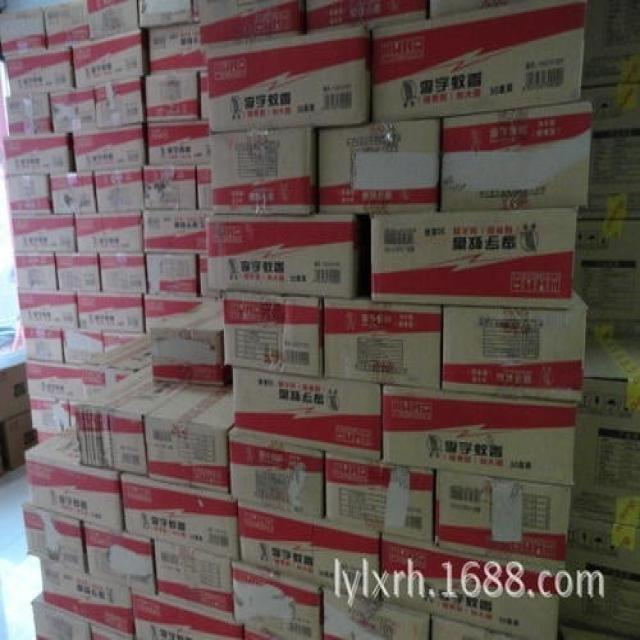box: (371, 2, 586, 121), (372, 207, 579, 309), (381, 532, 563, 638), (383, 387, 577, 483), (567, 333, 640, 579), (205, 27, 370, 131), (442, 102, 591, 212), (442, 292, 586, 399), (238, 500, 381, 602), (206, 213, 372, 297), (232, 369, 384, 459), (73, 364, 189, 474), (435, 471, 573, 560), (321, 297, 443, 393), (316, 118, 440, 212), (27, 423, 125, 532), (325, 447, 436, 543), (123, 471, 242, 558), (145, 382, 233, 493), (210, 126, 317, 213), (576, 82, 640, 222), (225, 290, 321, 377), (232, 430, 326, 515), (573, 218, 639, 336), (232, 556, 323, 640), (41, 556, 134, 637), (152, 538, 234, 620), (150, 299, 227, 382), (197, 0, 307, 56), (561, 561, 640, 637), (324, 584, 431, 640), (131, 585, 243, 638), (83, 521, 160, 594), (580, 0, 639, 89), (73, 29, 151, 89), (84, 331, 152, 399), (23, 503, 87, 570), (69, 123, 147, 172), (4, 44, 76, 92), (147, 26, 207, 79), (146, 119, 211, 166), (3, 135, 76, 176), (74, 212, 145, 254), (430, 0, 584, 19), (78, 290, 146, 333), (12, 213, 77, 256), (143, 212, 207, 254), (33, 594, 91, 640), (0, 7, 49, 60), (146, 70, 198, 119), (143, 166, 197, 213), (18, 290, 82, 329), (95, 77, 145, 126), (26, 362, 84, 404), (93, 169, 146, 213), (42, 2, 92, 48), (146, 294, 204, 333), (430, 618, 530, 640), (49, 89, 99, 133), (145, 254, 198, 295), (86, 0, 141, 38), (51, 172, 99, 215), (6, 94, 56, 135), (5, 174, 52, 215), (100, 253, 147, 292), (55, 253, 100, 292), (61, 329, 106, 367), (15, 254, 59, 292), (137, 0, 196, 27), (23, 328, 67, 362), (31, 399, 70, 433), (198, 254, 225, 300), (102, 331, 142, 352), (196, 164, 212, 208), (82, 625, 134, 638)
